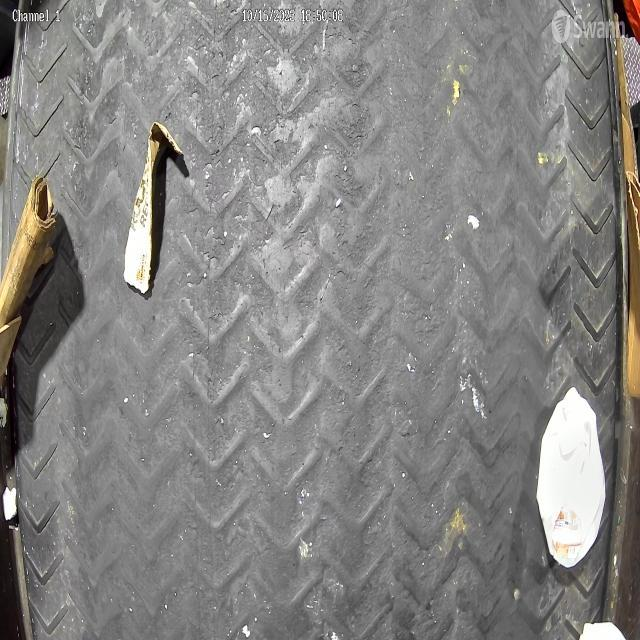milk_jug: (536, 386, 606, 566)
